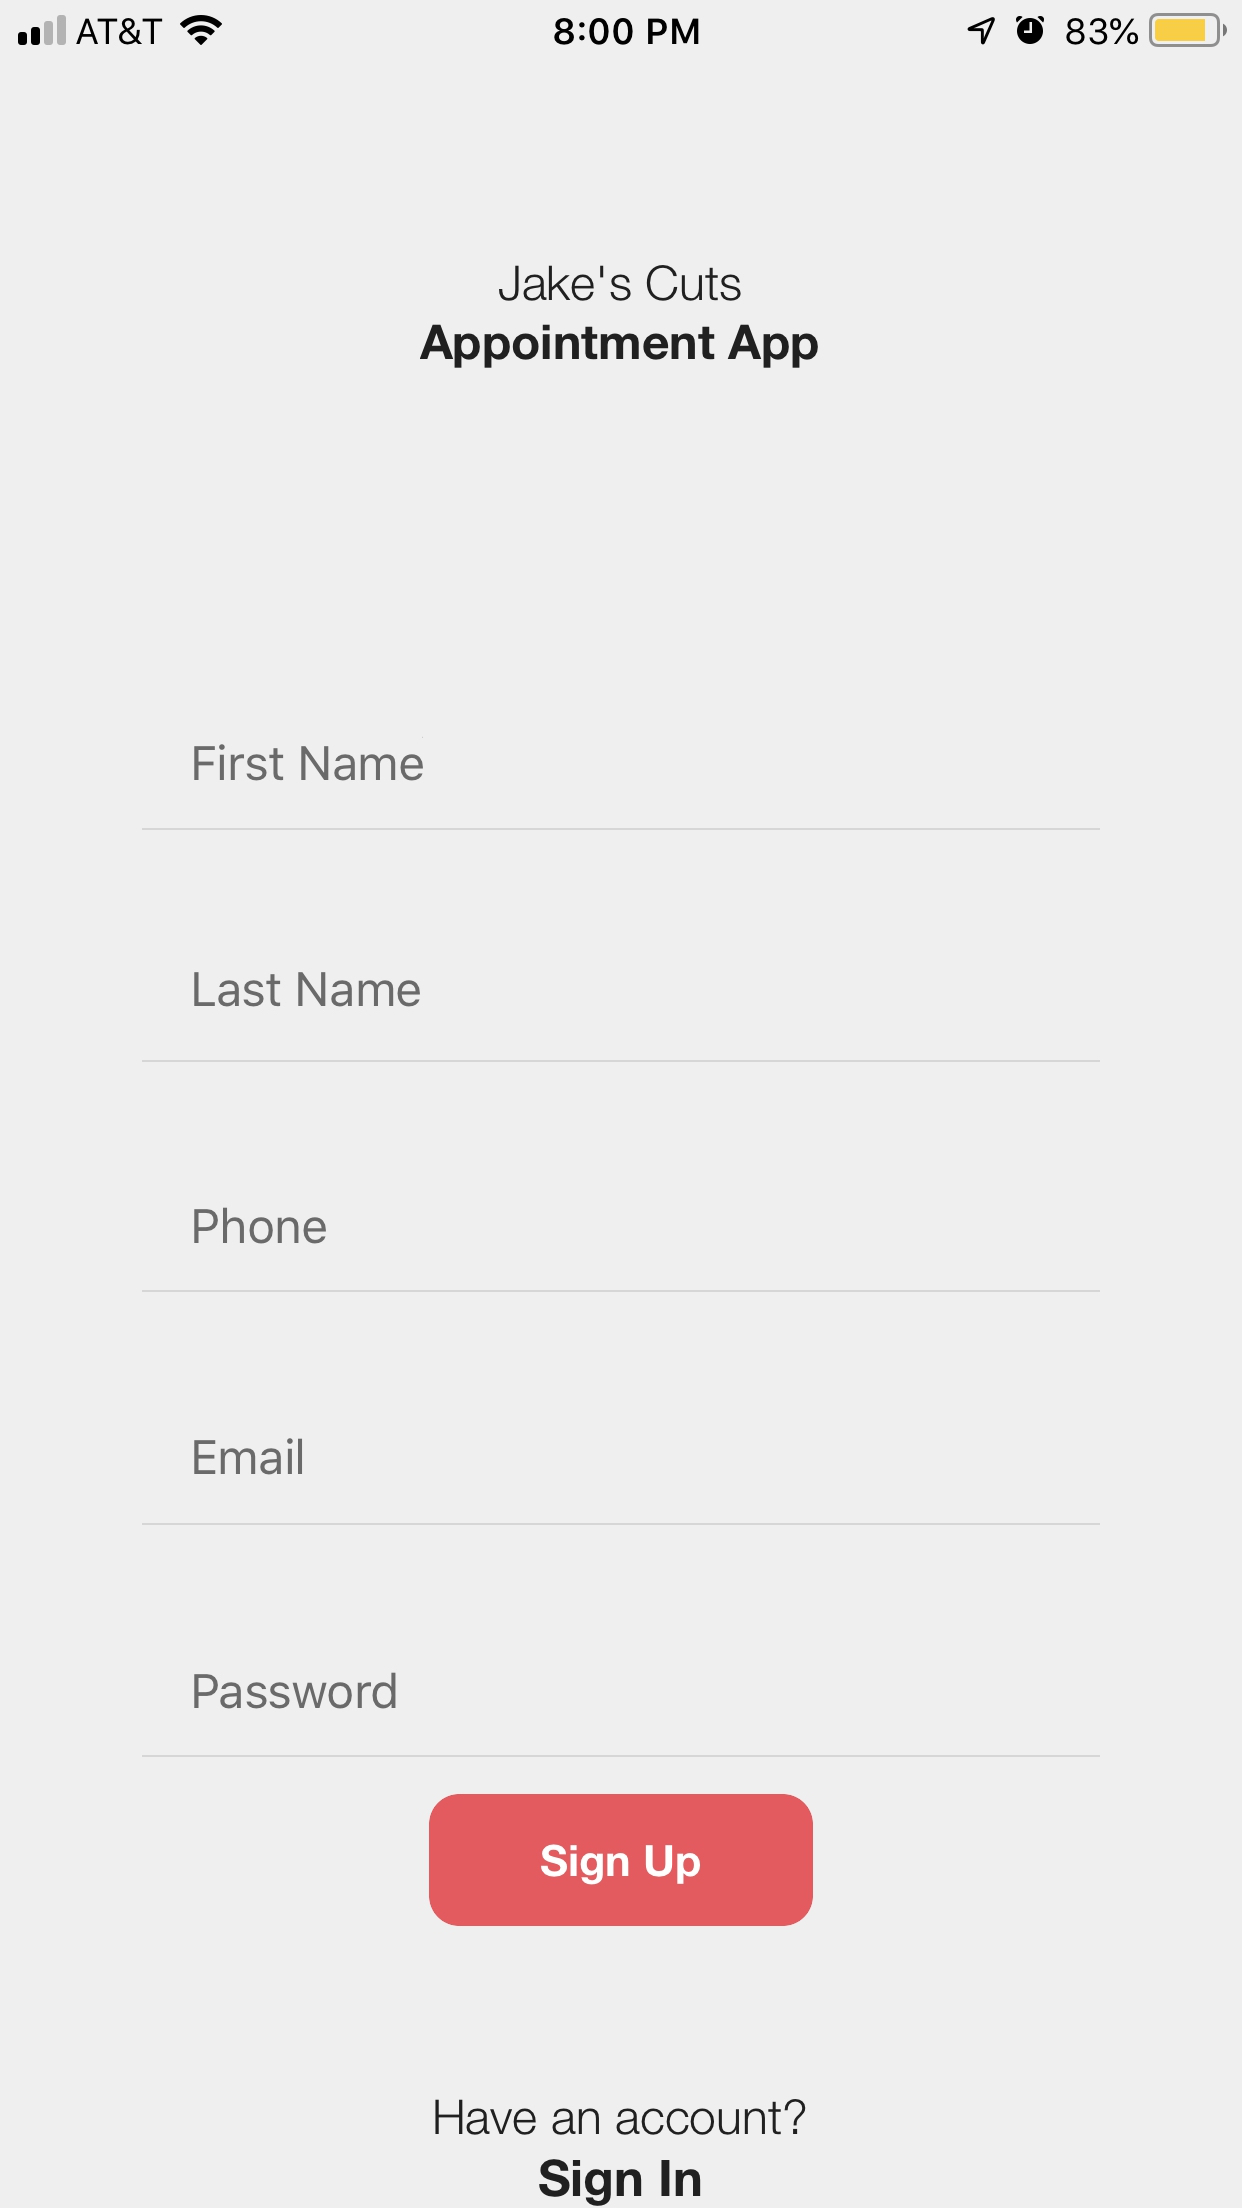EditText: (143, 972, 1101, 1063), (143, 1438, 1101, 1527), (143, 1206, 1101, 1294), (143, 743, 1101, 831), (143, 1671, 1101, 1758)
Text: (420, 325, 819, 370), (434, 2097, 805, 2137), (497, 265, 742, 303), (193, 745, 425, 783), (194, 972, 422, 1008), (538, 2158, 702, 2206), (193, 1671, 397, 1709), (194, 1207, 328, 1244), (194, 1438, 303, 1476)
TextButton: (429, 1792, 814, 1927)
UpperTaskBar: (2, 2, 1242, 49)
